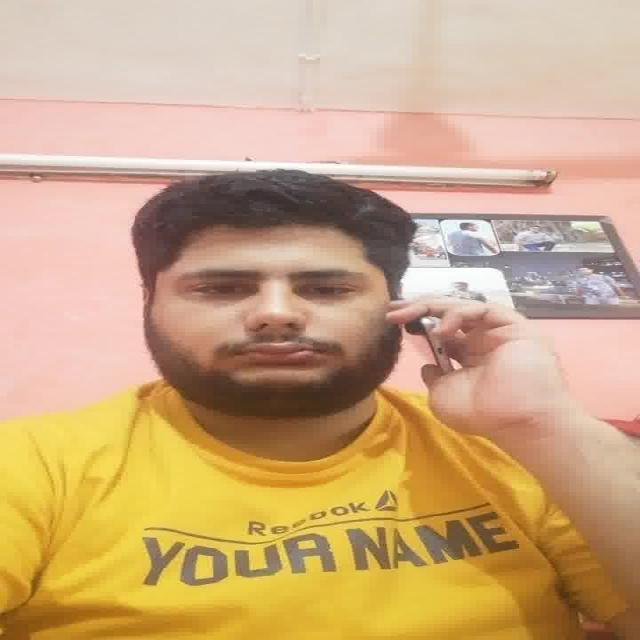Phone: (399, 302, 456, 379)
